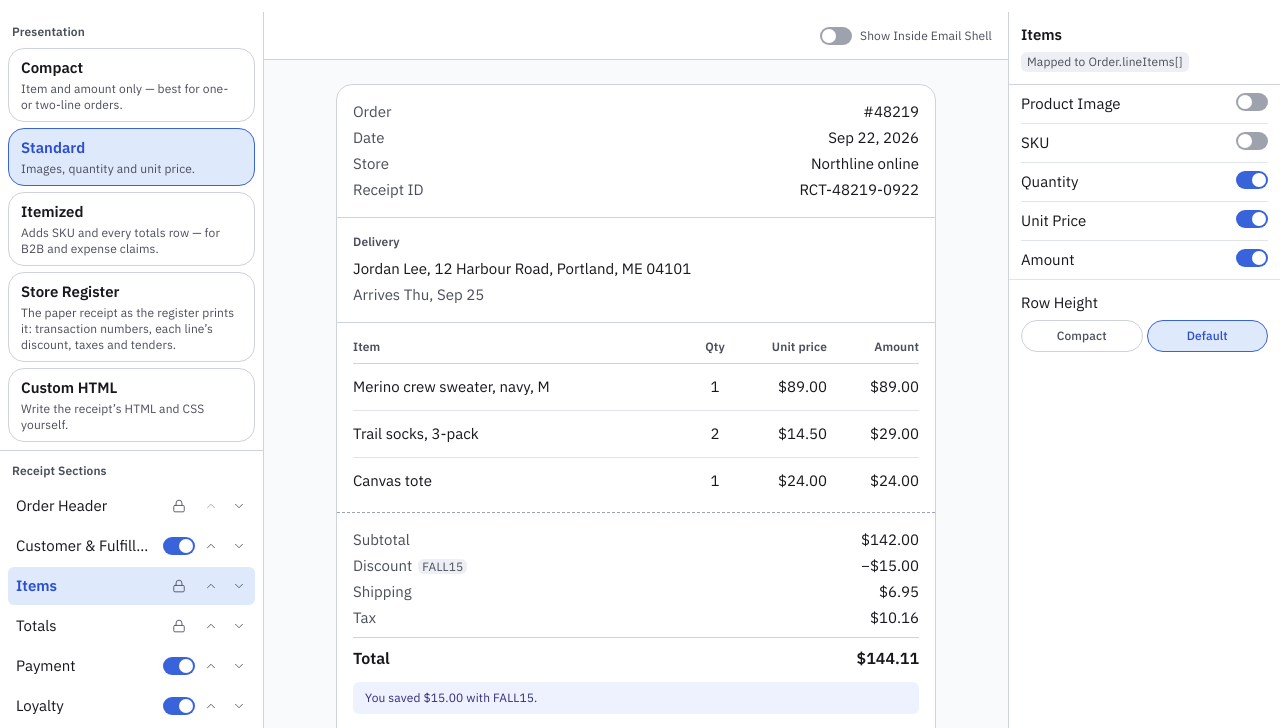
Scenario: every row moves, the locked ones included; only the ends are disabled
Expected: the button named "Move Up: Order Header" is disabled, [199,494,223,518]
Click the button named "Move Up: Totals". click: (211, 626)
box: [199,614,223,638]
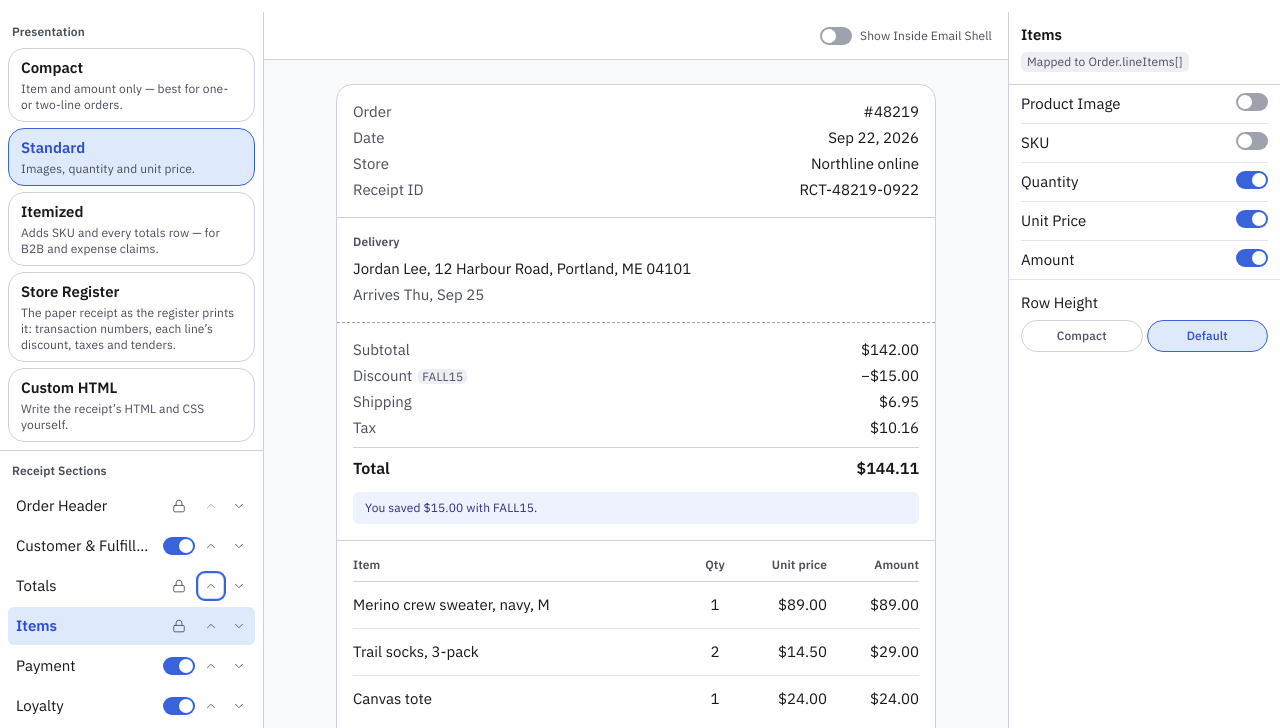
Click the button named "Move Down: Order Header". click: (239, 506)
box: [227,494,251,518]
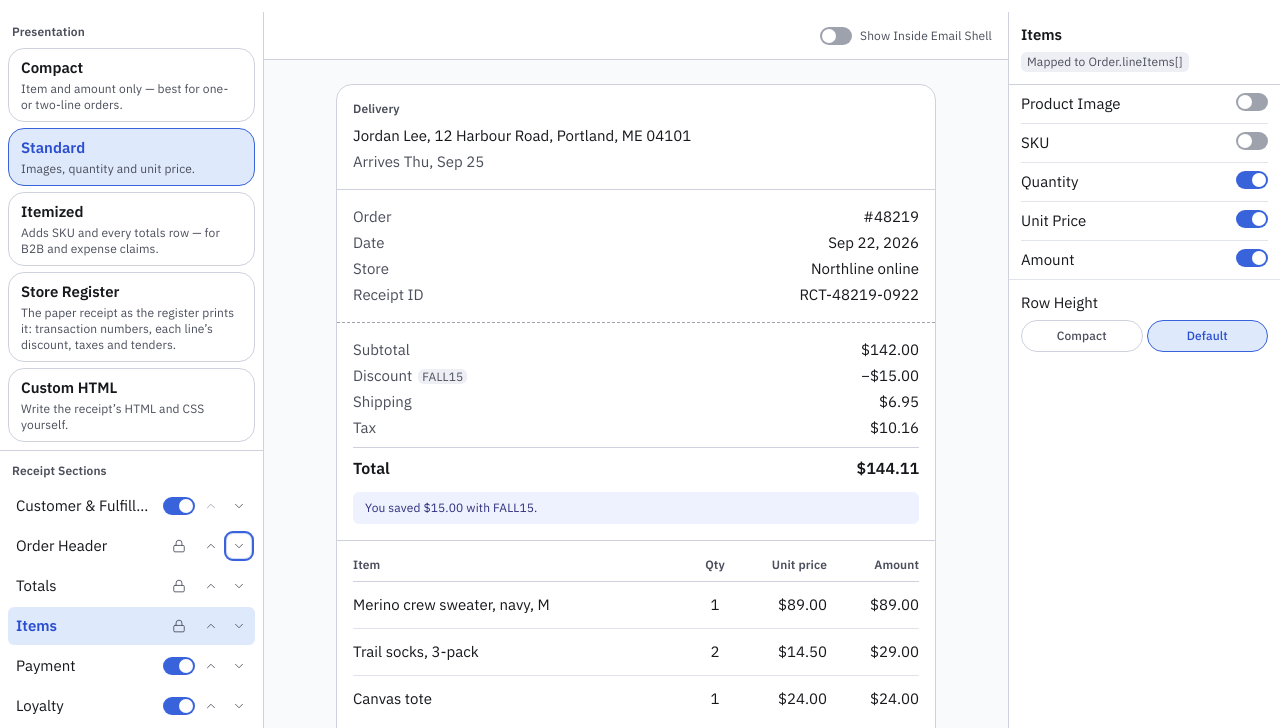
Click the button named "Move Up: Items". click: (211, 626)
box: [199,614,223,638]
(page scrolled)
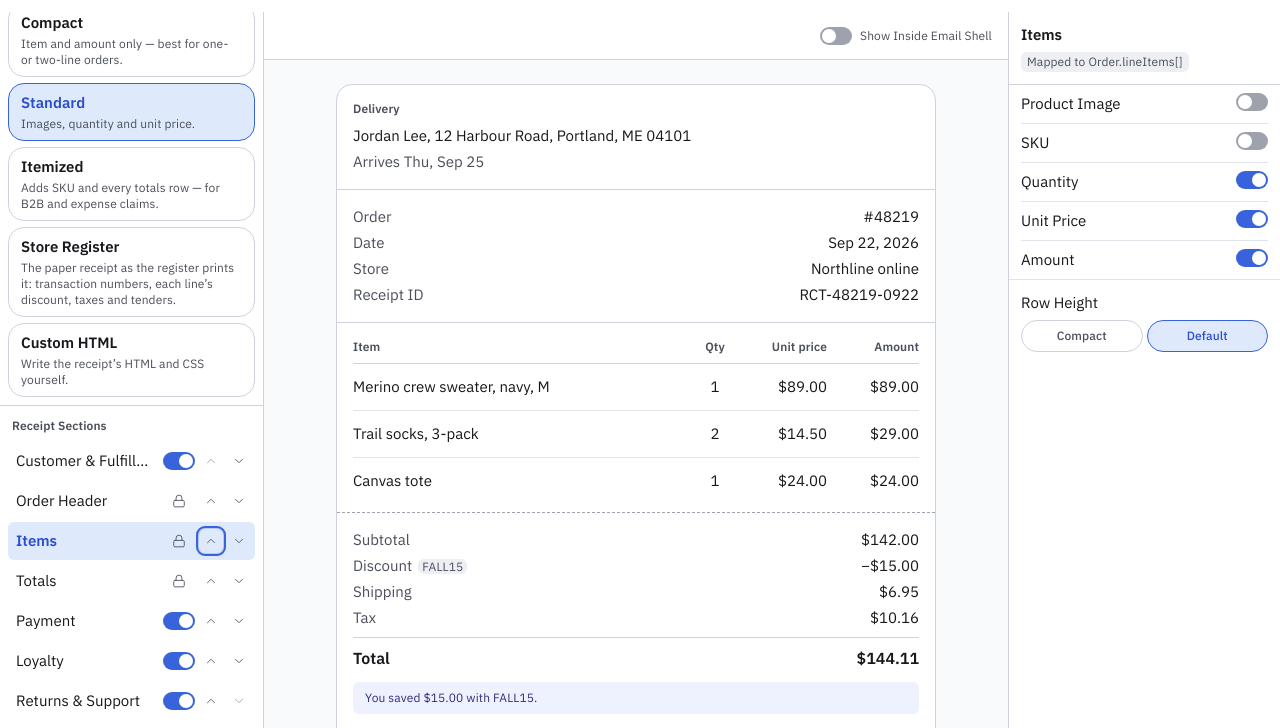
Expected: the button named "Move Down: Order Header" is enabled, [227,489,251,513]
Expected: the button named "Move Up: Order Header" is enabled, [199,489,223,513]
Expected: the button named "Move Down: Returns & Support" is disabled, [227,689,251,713]
